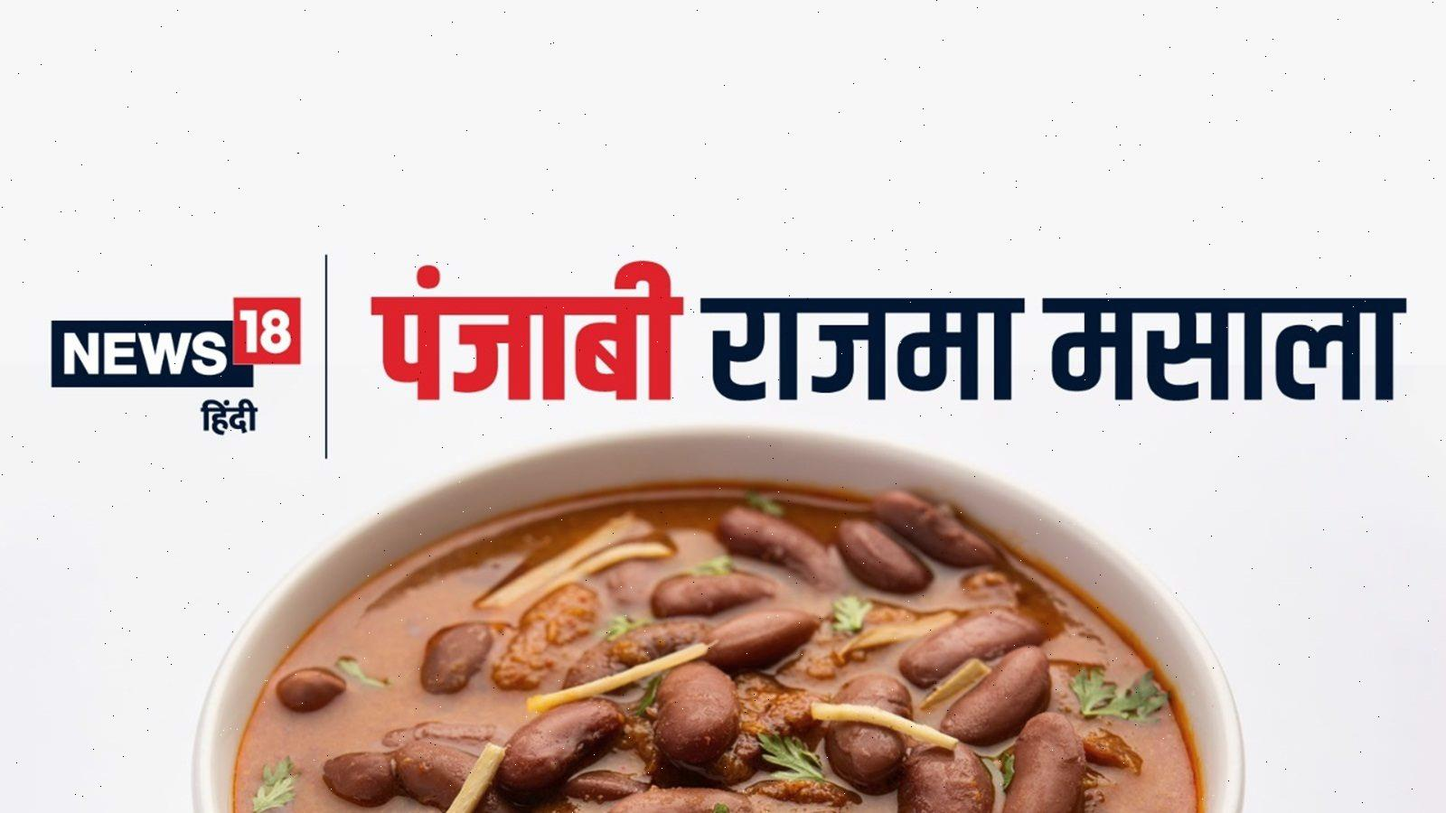rajma: (246, 517, 1202, 813)
